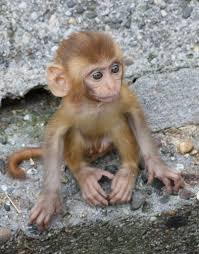monkey: (45, 24, 162, 241)
